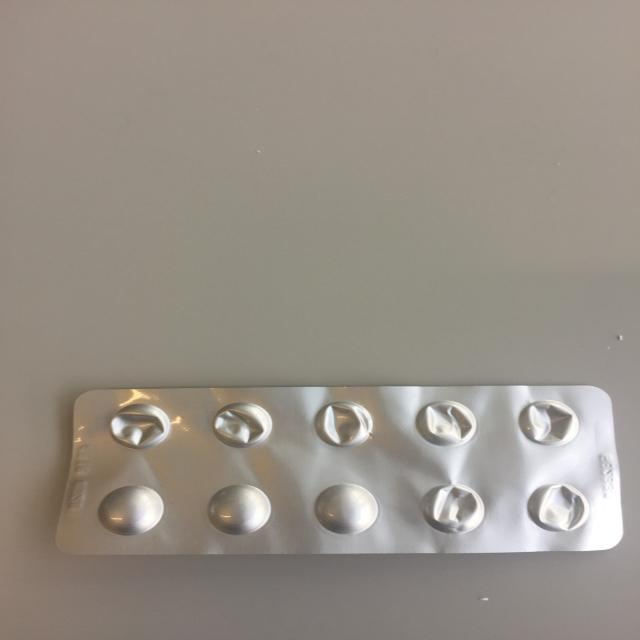Empty: (418, 483, 490, 536), (309, 398, 384, 448), (104, 401, 176, 453), (525, 481, 594, 535), (205, 400, 280, 449), (514, 397, 584, 449), (414, 400, 484, 449)
Pill: (92, 482, 169, 537), (202, 480, 276, 536), (309, 482, 383, 537)
